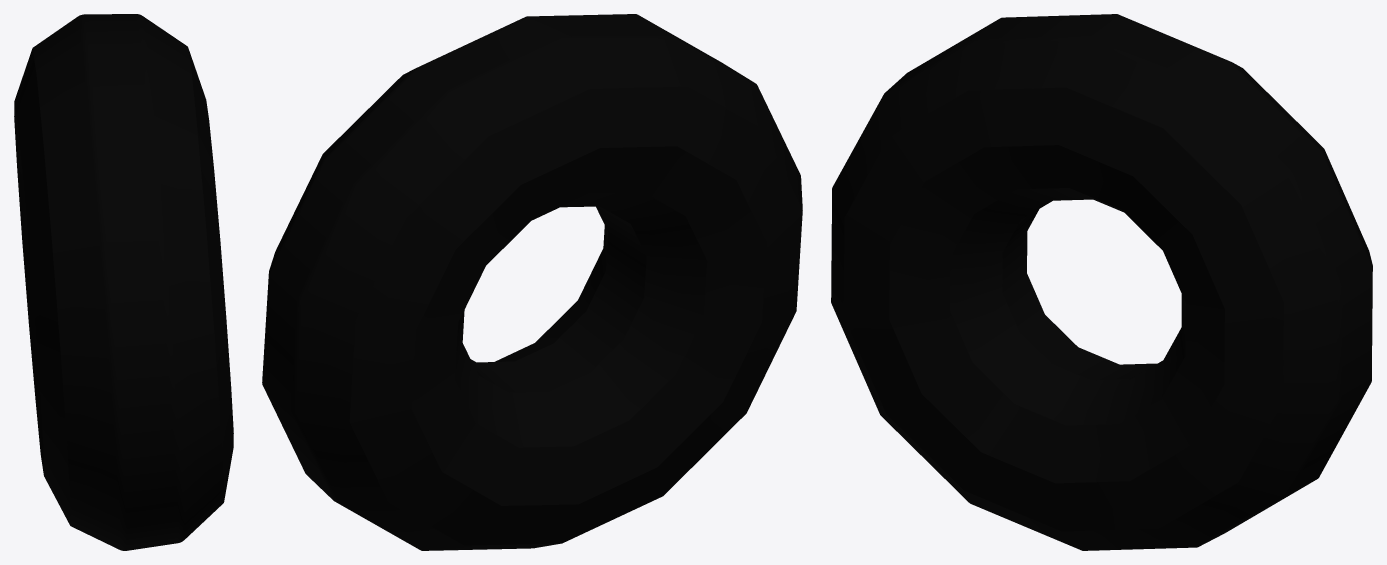
Rendered from Rueda.obj.
The picture shows the model from 3 angles, left to right: view 1: azimuth 30°, elevation 25°; view 2: azimuth 150°, elevation 25°; view 3: azimuth 270°, elevation 25°; orthographic projection. The views are drawn at different scales.
Visible parts, largest first — view 1: blinkobot_group2_blinkobot_group2_pCylinder1_blinkobot_polySurfa; view 2: blinkobot_group2_blinkobot_group2_pCylinder1_blinkobot_polySurfa; view 3: blinkobot_group2_blinkobot_group2_pCylinder1_blinkobot_polySurfa.
Boxes of the visible parts, left/top/right/bottom form: blinkobot_group2_blinkobot_group2_pCylinder1_blinkobot_polySurfa: left=14, top=14, right=233, bottom=550; blinkobot_group2_blinkobot_group2_pCylinder1_blinkobot_polySurfa: left=262, top=14, right=802, bottom=550; blinkobot_group2_blinkobot_group2_pCylinder1_blinkobot_polySurfa: left=831, top=14, right=1372, bottom=550.
Bounding box in the file's own units: 0.1854 × 0.2702 × 0.2622.
1 material, 1 textured.
